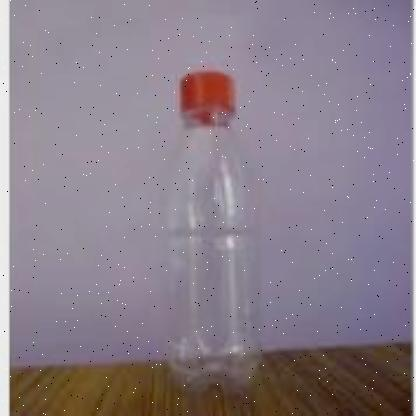Plastic Bottle: (168, 70, 262, 391)
